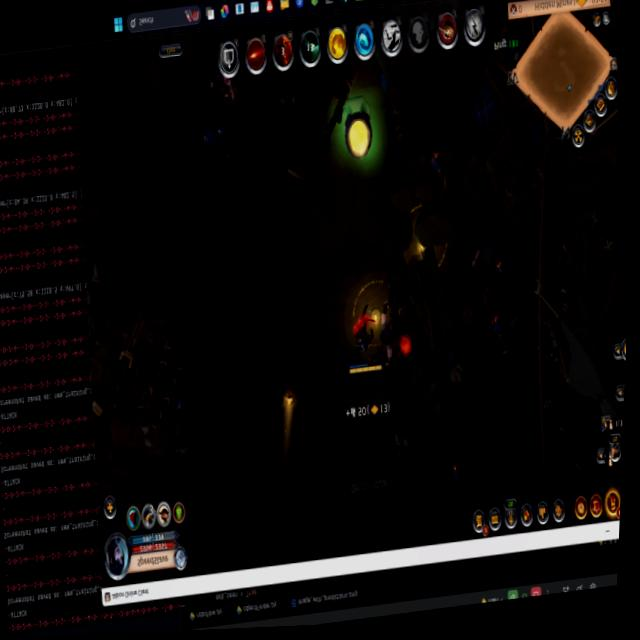fiber: (336, 93, 379, 168)
red: (341, 301, 387, 379)
